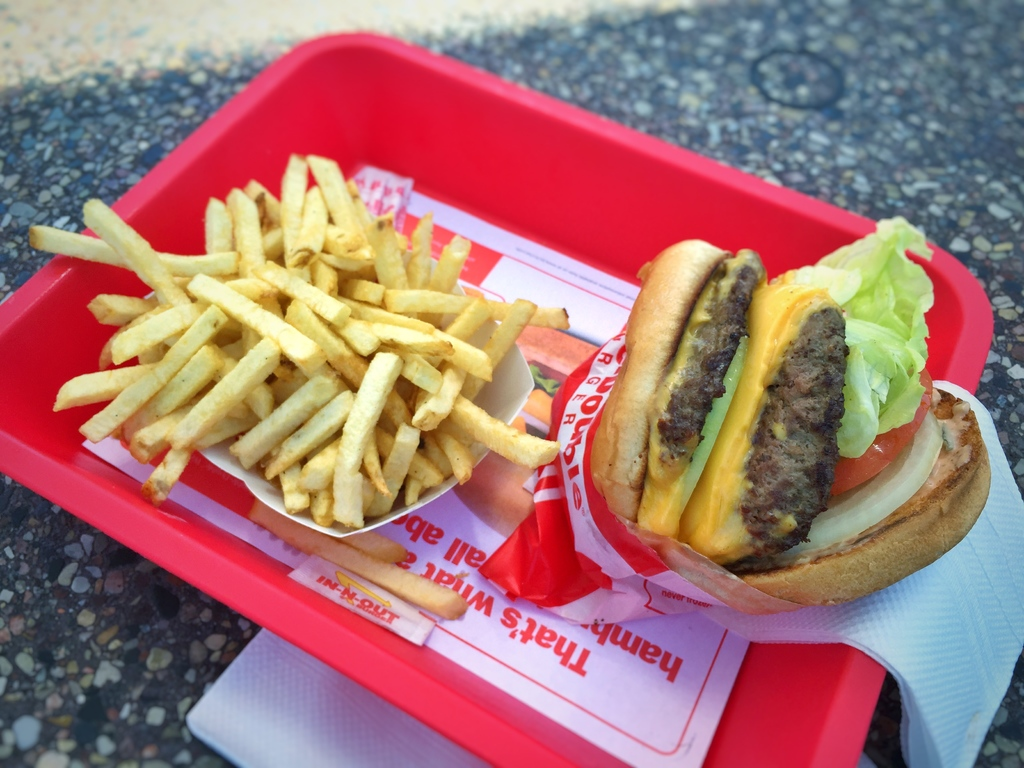French fries: (25, 143, 561, 622)
